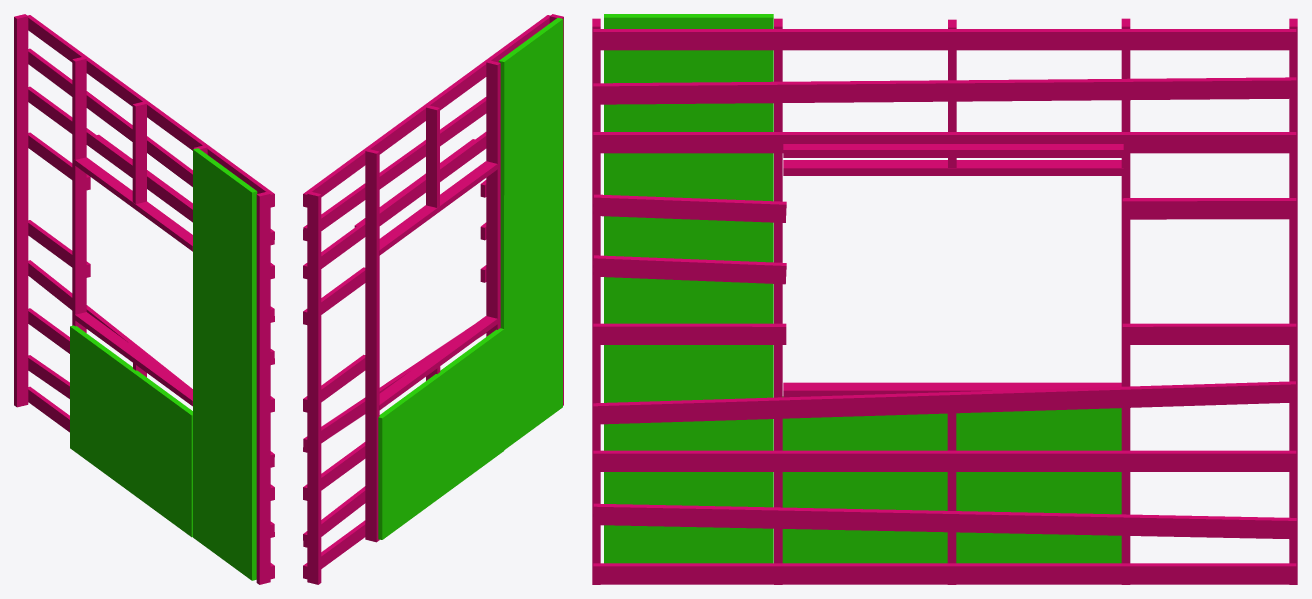
File: BH05B_Wall_Int_07_Break_B.fbx
The picture shows the model from 3 angles, left to right: view 1: azimuth 30°, elevation 25°; view 2: azimuth 150°, elevation 25°; view 3: azimuth 270°, elevation 25°; orthographic projection. The views are drawn at different scales.
Parts seen in each view (by area): view 1: BH05B_Wall_Int_07_Break_B; view 2: BH05B_Wall_Int_07_Break_B; view 3: BH05B_Wall_Int_07_Break_B.
Part boxes in pixels (bbox=[...]): BH05B_Wall_Int_07_Break_B: bbox=[14, 14, 274, 584]; BH05B_Wall_Int_07_Break_B: bbox=[303, 14, 563, 584]; BH05B_Wall_Int_07_Break_B: bbox=[592, 14, 1297, 584].
Size of the model in its own units: 23.01 by 301 by 344.
